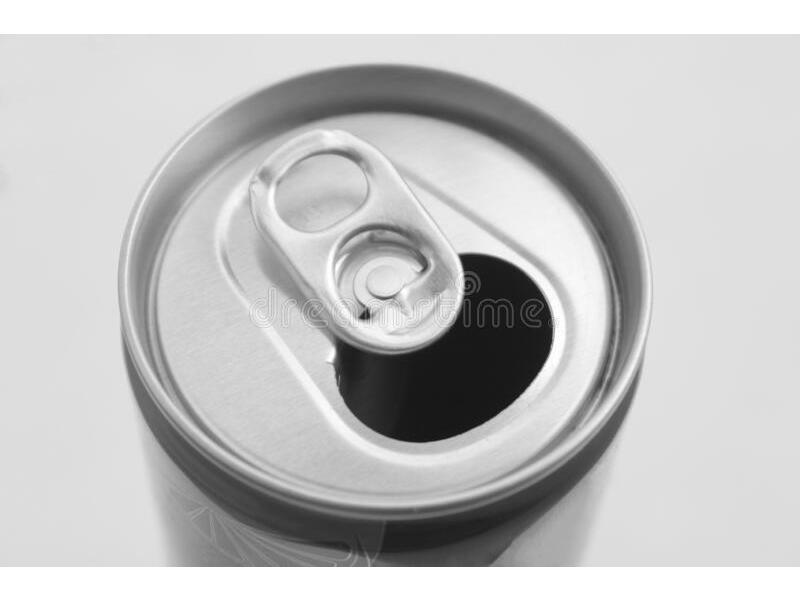can: (111, 55, 656, 572)
